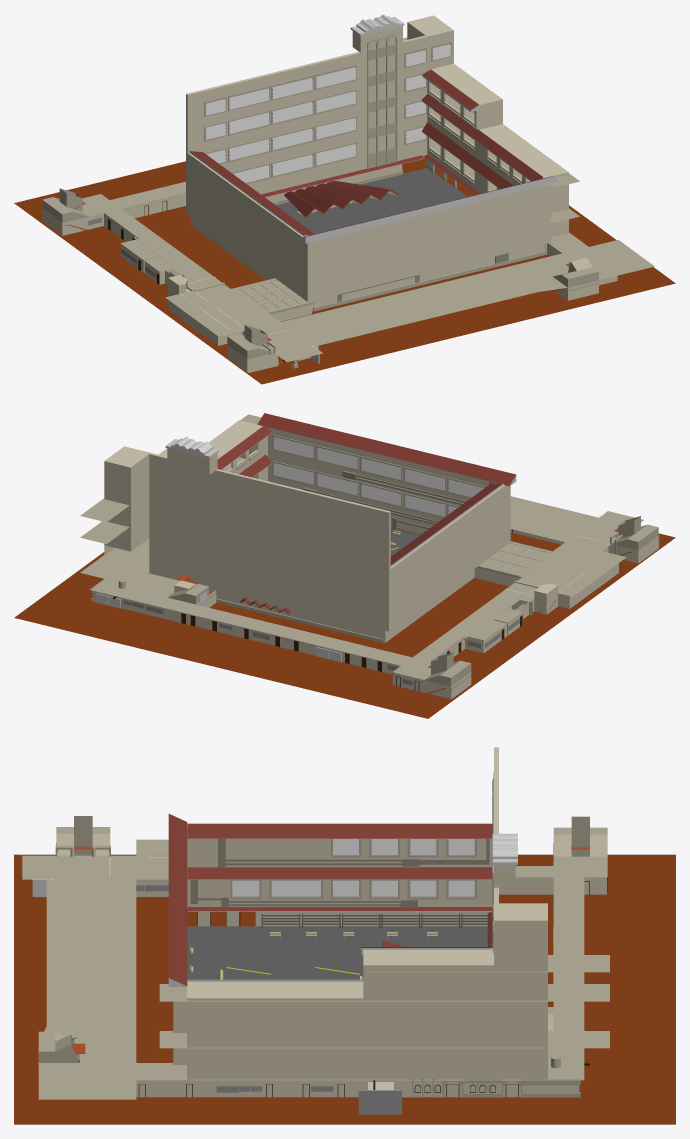
The model's file is Groundnew.fbx.
3 views of the same model, one above another, from view 1: azimuth 30°, elevation 25°; view 2: azimuth 150°, elevation 25°; view 3: azimuth 270°, elevation 25° (orthographic). The views are drawn at different scales.
Visible parts, largest first — view 1: Ground flr; view 2: Ground flr; view 3: Ground flr.
Boxes of the visible parts, x1,y1,x2,y2 form: Ground flr: (14, 14, 675, 384); Ground flr: (14, 413, 675, 718); Ground flr: (14, 747, 675, 1124).
Bounding box in the file's own units: 16487 × 5991 × 17083.
